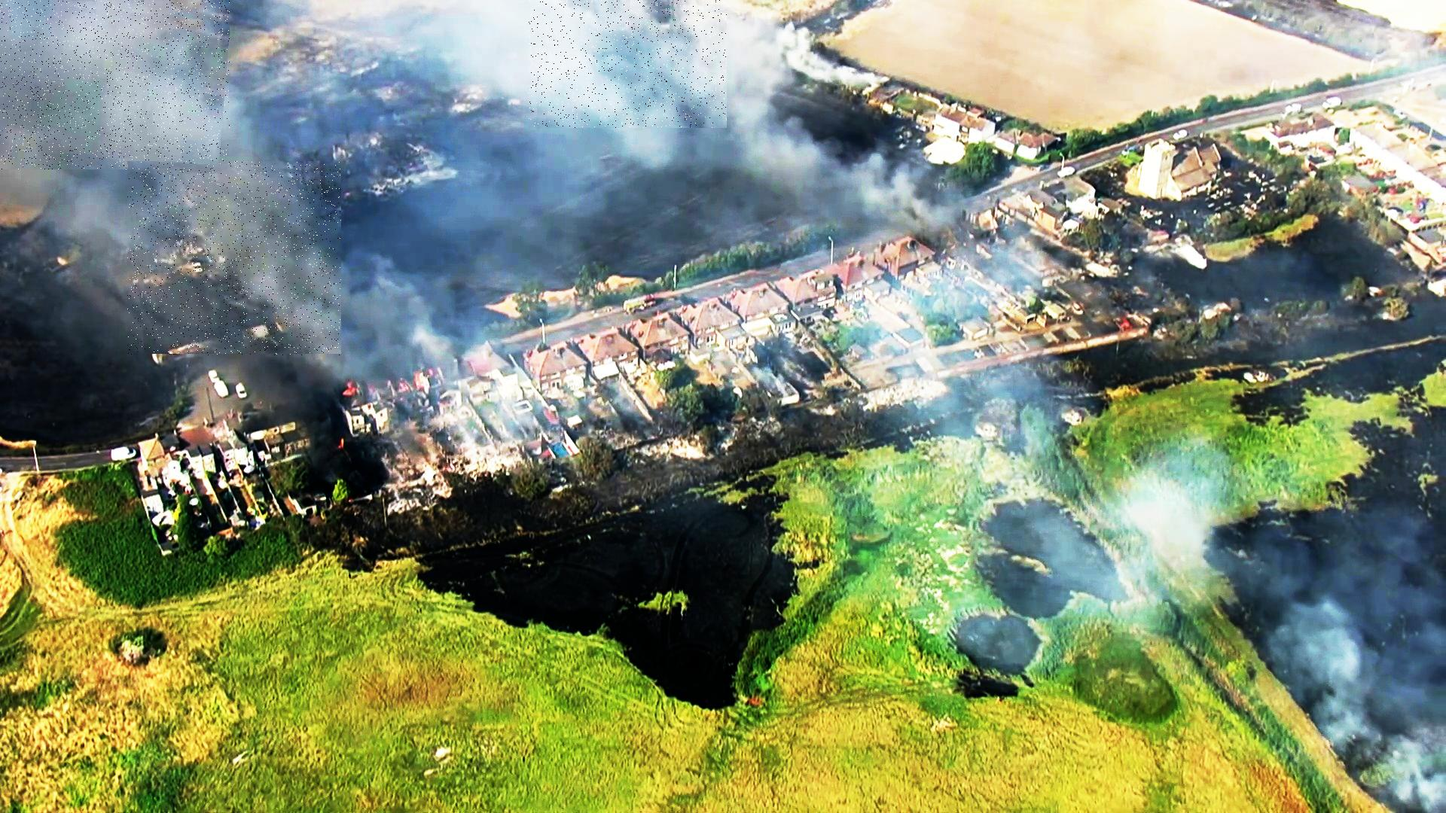smoke: (127, 162, 341, 356), (0, 0, 230, 169), (528, 0, 727, 128)
